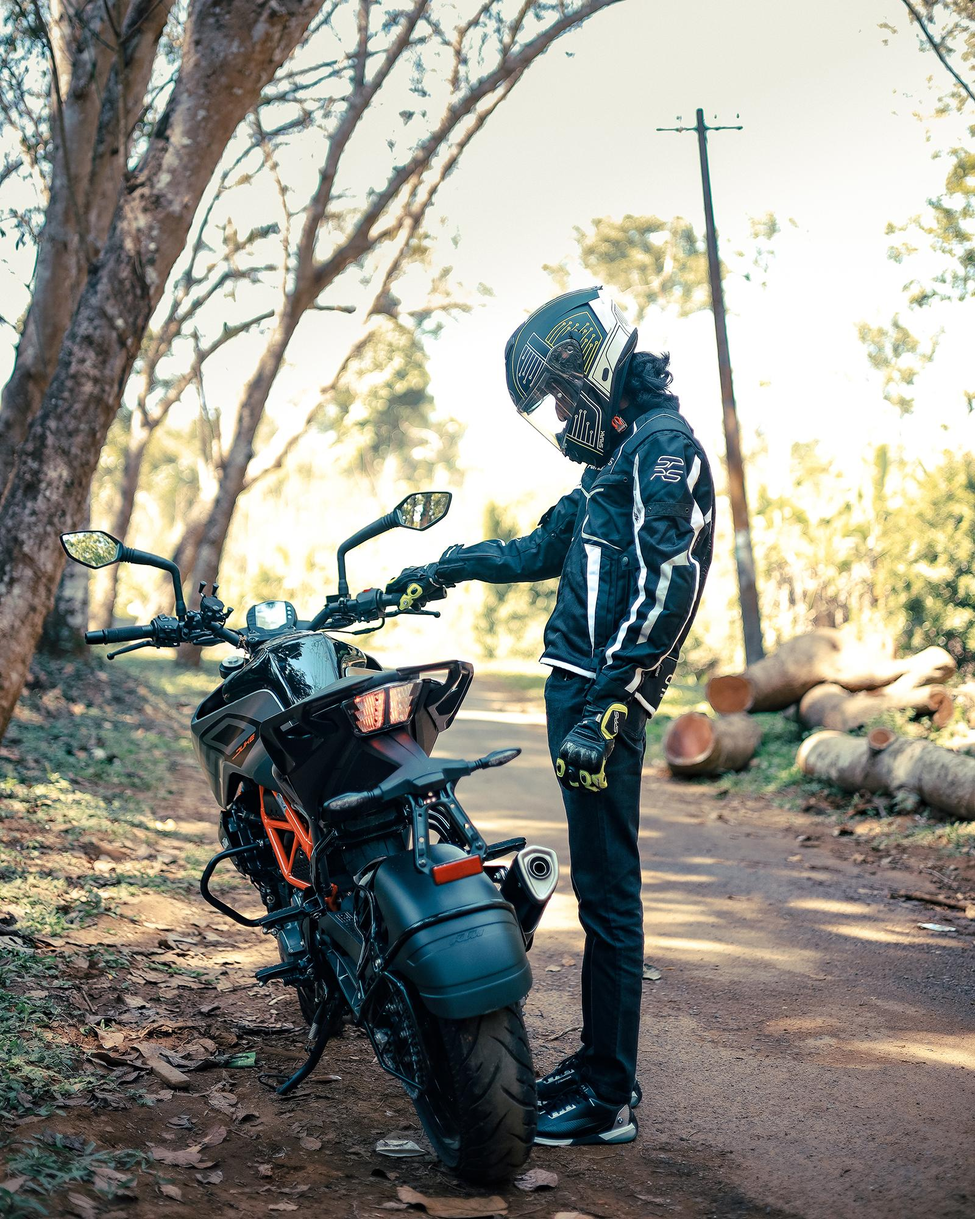helmet: (503, 284, 639, 470)
